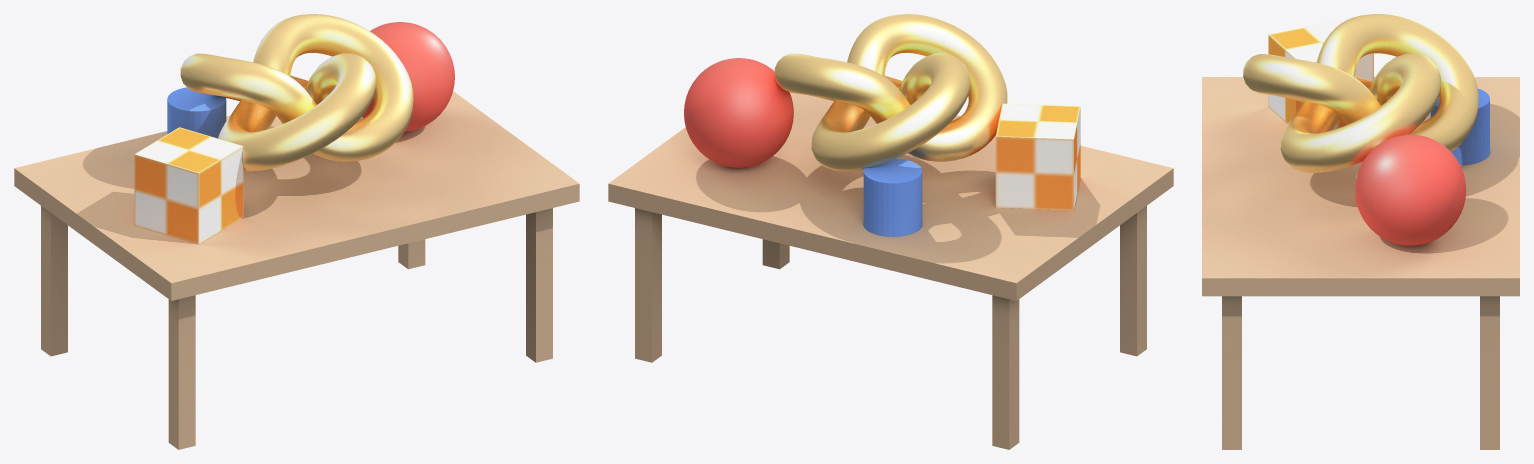
The model's file is table-cycles.glb.
The picture shows the model from 3 angles, left to right: view 1: azimuth 30°, elevation 25°; view 2: azimuth 150°, elevation 25°; view 3: azimuth 270°, elevation 25°; orthographic projection.
Parts seen in each view (by area): view 1: Table_4, TorusKnot_3, CheckerCube_1, Sphere_2, Cylinder_0; view 2: Table_4, TorusKnot_3, Sphere_2, CheckerCube_1, Cylinder_0; view 3: Table_4, TorusKnot_3, Sphere_2, CheckerCube_1, Cylinder_0.
Boxes of the visible parts, x1,y1,x2,y2 form: Table_4: (14,91,579,449); TorusKnot_3: (180,14,413,171); CheckerCube_1: (134,127,243,244); Sphere_2: (362,22,454,131); Cylinder_0: (167,87,226,138); Table_4: (608,92,1173,449); TorusKnot_3: (774,14,1007,171); Sphere_2: (684,58,793,167); CheckerCube_1: (995,103,1080,210); Cylinder_0: (863,158,922,236); Table_4: (1202,77,1519,449); TorusKnot_3: (1243,14,1478,172); Sphere_2: (1355,134,1466,245); CheckerCube_1: (1268,20,1373,129); Cylinder_0: (1430,88,1489,164).
Bounding box in the file's own units: 2.4 × 1.72 × 1.6.
1 material, 1 textured.
